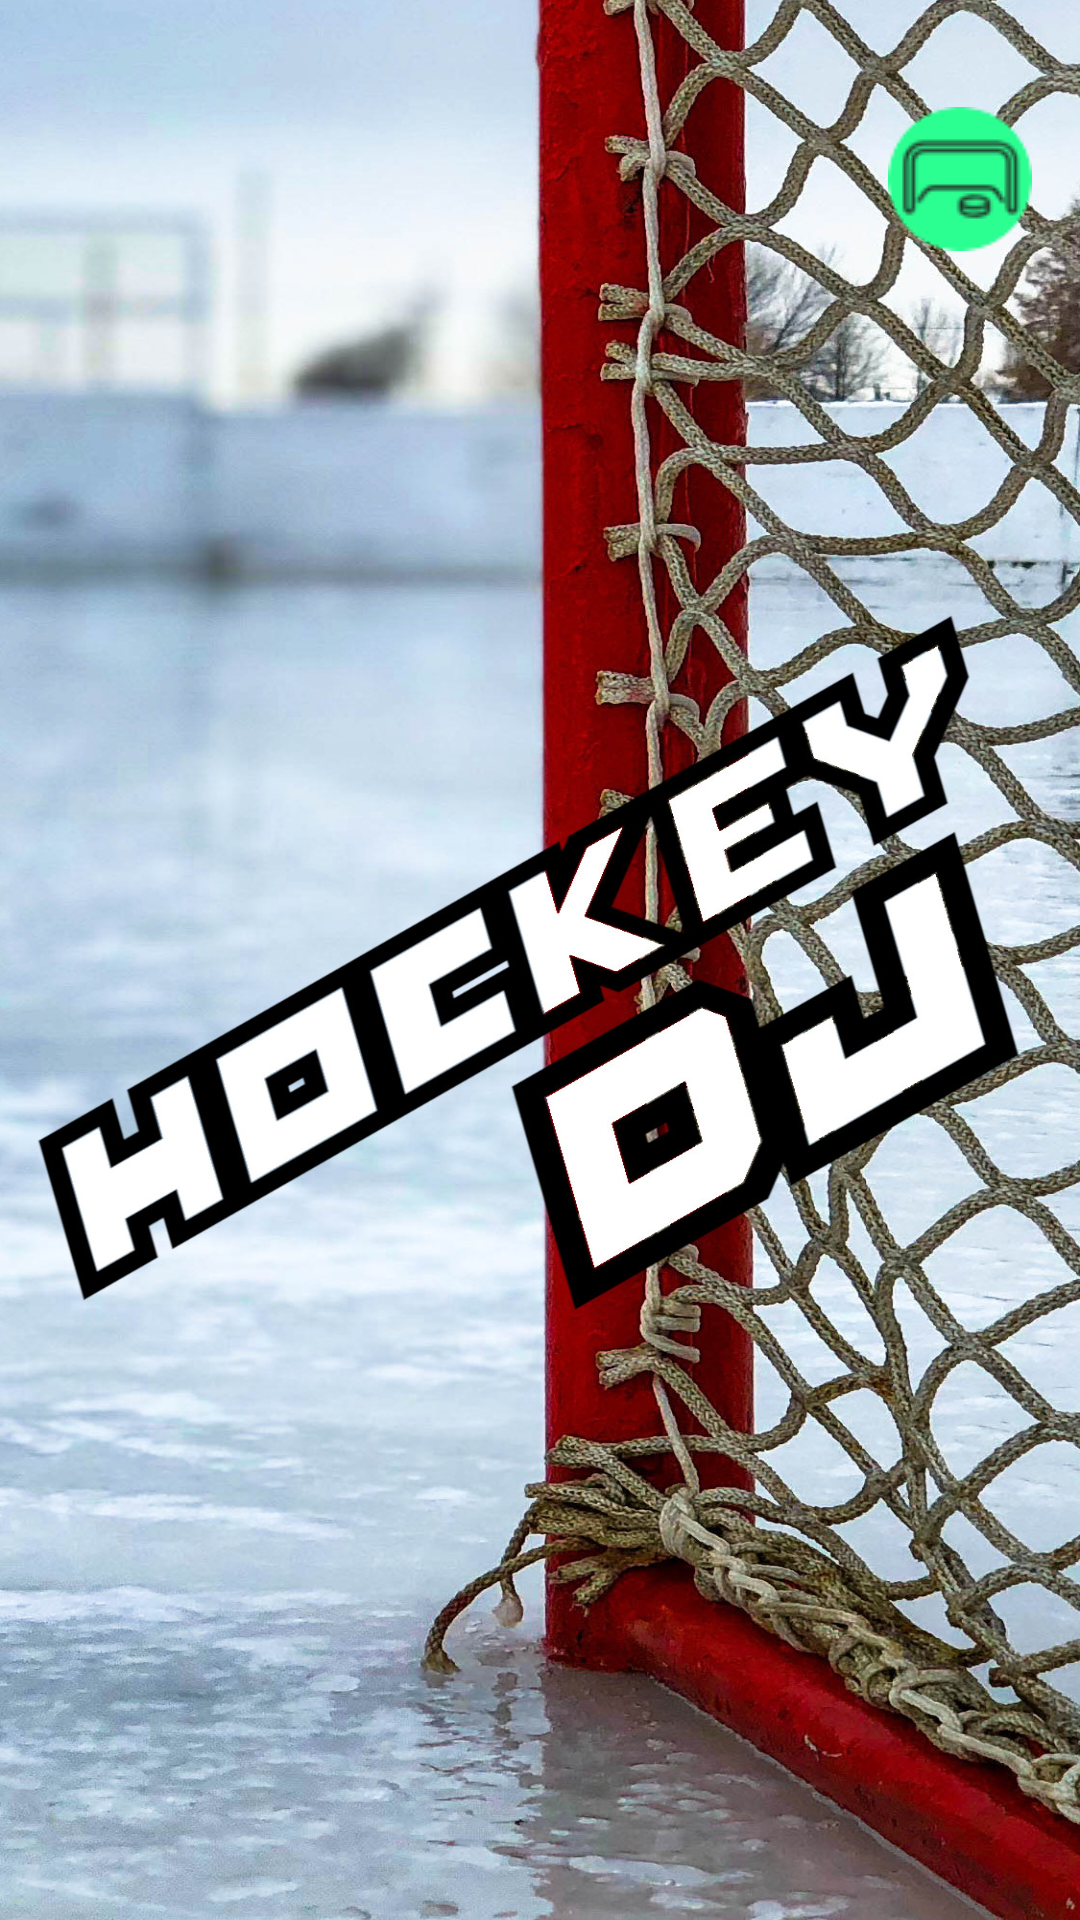

Icons on this 1080 x 1920 Android screen, each with the point to tap as [x,y]:
goal list: [960,179]
